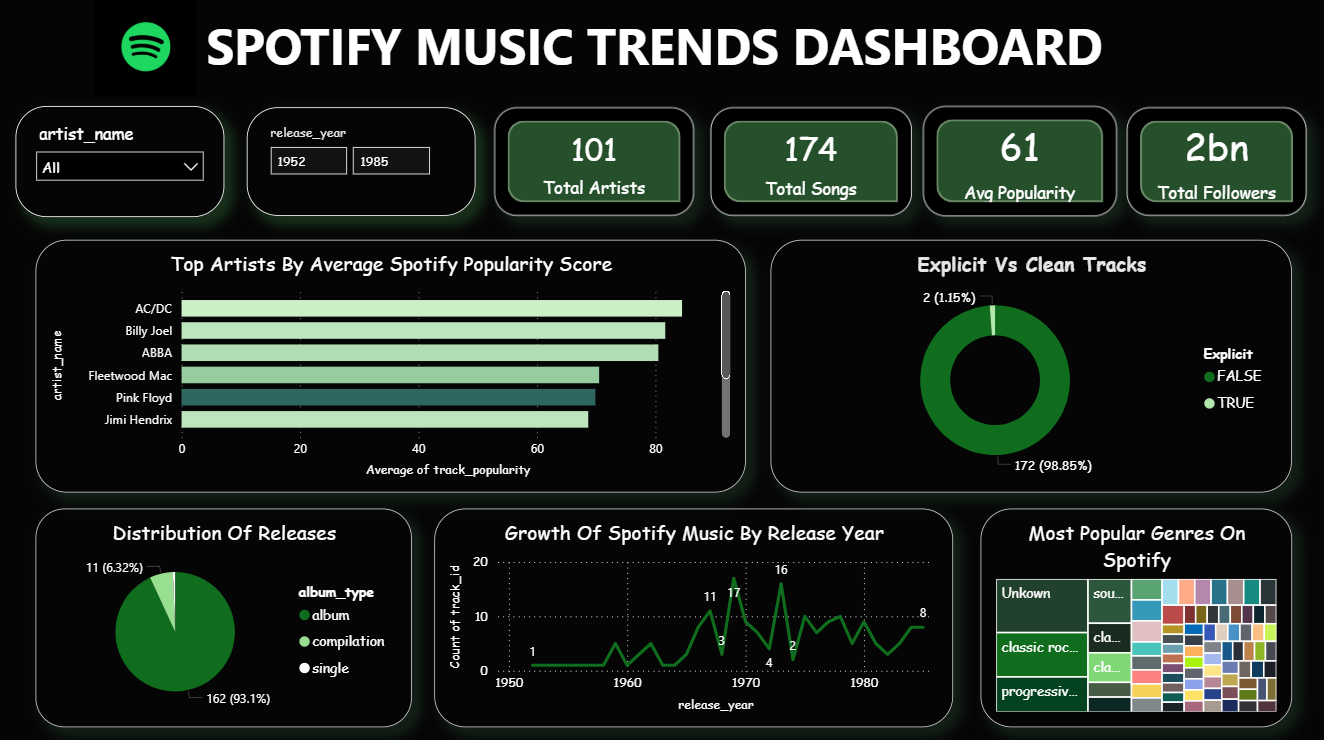

Layout of this report page (visuals, bound fields, positions):
{"tool":"powerbi","page":{"name":"Page 1","canvas":[1280,720],"ordinal":0},"visuals":[{"type":"clusteredBarChart","title":"Top Artists By Average Spotify Popularity Score","fields":{"Category":["spotify_data clean.artist_name"],"Y":["Avg(spotify_data clean.track_popularity)"]},"box":[36.2,235.3,685.3,243.7],"z":0},{"type":"lineChart","title":"Growth Of Spotify Music By Release Year","fields":{"Category":["spotify_data clean.release_year"],"Y":["CountNonNull(spotify_data clean.track_id)"]},"box":[421,494.6,500.7,211.1],"z":1000},{"type":"donutChart","title":"Explicit Vs Clean Tracks","fields":{"Category":["spotify_data clean.explicit"],"Y":["CountNonNull(spotify_data clean.track_id)"]},"box":[745.6,235.3,503.1,243.7],"z":2000},{"type":"pieChart","title":"Distribution Of Releases","fields":{"Category":["spotify_data clean.album_type"],"Y":["CountNonNull(spotify_data clean.track_id)"]},"box":[36.2,494.6,363.1,211.1],"z":3000},{"type":"treemap","title":"Most Popular Genres On Spotify","fields":{"Values":["CountNonNull(spotify_data clean.track_id)"],"Group":["spotify_data clean.artist_genres"]},"box":[948.3,494.6,300.4,211.1],"z":4000},{"type":"slicer","fields":{"Values":["spotify_data clean.release_year"]},"box":[240.1,107.4,220.8,105],"z":5000},{"type":"slicer","fields":{"Values":["spotify_data clean.artist_name"]},"box":[16.9,106.2,201.5,107.4],"z":6000},{"type":"textbox","box":[0,9.7,1280,77.2],"z":7000},{"type":"image","box":[55.5,0,173.7,97.7],"z":8000},{"type":"advanceCardE03760C5AB684758B56AA29F9E6C257B","fields":{"mainMeasure":["spotify_data clean.Total Artists"]},"box":[479,107.4,193,105],"z":9000},{"type":"advanceCardE03760C5AB684758B56AA29F9E6C257B","fields":{"mainMeasure":["spotify_data clean.Total Songs"]},"box":[687.7,107.4,194.2,105],"z":10000},{"type":"advanceCardE03760C5AB684758B56AA29F9E6C257B","fields":{"mainMeasure":["spotify_data clean.Avg Popularity"]},"box":[892.8,106.2,187,106.2],"z":11000},{"type":"advanceCardE03760C5AB684758B56AA29F9E6C257B","fields":{"mainMeasure":["spotify_data clean.Total Followers"]},"box":[1089.4,107.4,173.7,105],"z":12000}]}

Visuals, with their boxes in screenshot pixels (x1, y1, x2, y2), scaled from the page's 1280x720 canvas onto the 1324x740 screenshot:
"Top Artists By Average Spotify Popularity Score" clusteredBarChart: 37, 242, 746, 492
"Growth Of Spotify Music By Release Year" lineChart: 435, 508, 953, 725
"Explicit Vs Clean Tracks" donutChart: 771, 242, 1292, 492
"Distribution Of Releases" pieChart: 37, 508, 413, 725
"Most Popular Genres On Spotify" treemap: 981, 508, 1292, 725
slicer - spotify_data clean.release_year: 248, 110, 477, 218
slicer - spotify_data clean.artist_name: 17, 109, 226, 220
textbox: 0, 10, 1323, 89
image: 57, 0, 237, 100
advanceCardE03760C5AB684758B56AA29F9E6C257B - spotify_data clean.Total Artists: 495, 110, 695, 218
advanceCardE03760C5AB684758B56AA29F9E6C257B - spotify_data clean.Total Songs: 711, 110, 912, 218
advanceCardE03760C5AB684758B56AA29F9E6C257B - spotify_data clean.Avg Popularity: 923, 109, 1117, 218
advanceCardE03760C5AB684758B56AA29F9E6C257B - spotify_data clean.Total Followers: 1127, 110, 1307, 218
